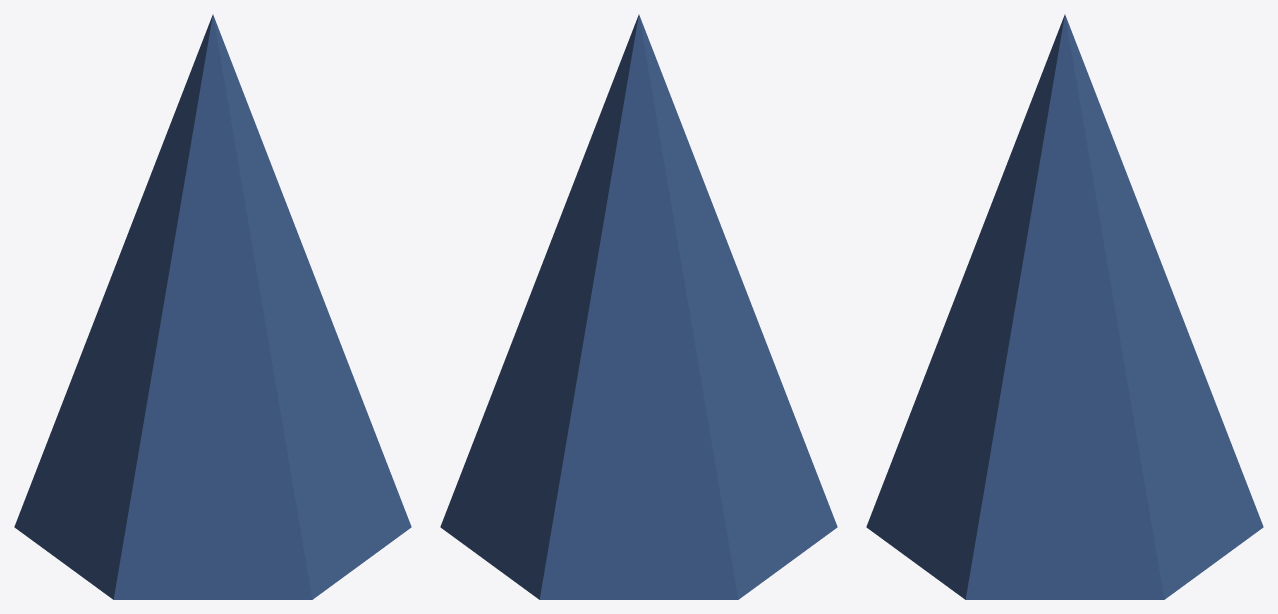
The model's file is tree-winter-leaves-010.glb.
3 views of the same model, side by side, from view 1: azimuth 30°, elevation 25°; view 2: azimuth 150°, elevation 25°; view 3: azimuth 270°, elevation 25° (orthographic).
Parts seen in each view (by area): view 1: Cube.067_133; view 2: Cube.067_133; view 3: Cube.067_133.
Part boxes in pixels (x1=…): Cube.067_133: x1=14, y1=14, x2=411, y2=599; Cube.067_133: x1=440, y1=14, x2=837, y2=599; Cube.067_133: x1=866, y1=14, x2=1263, y2=599.
Bounding box in the file's own units: 0.6985 × 1.15 × 0.8065.
